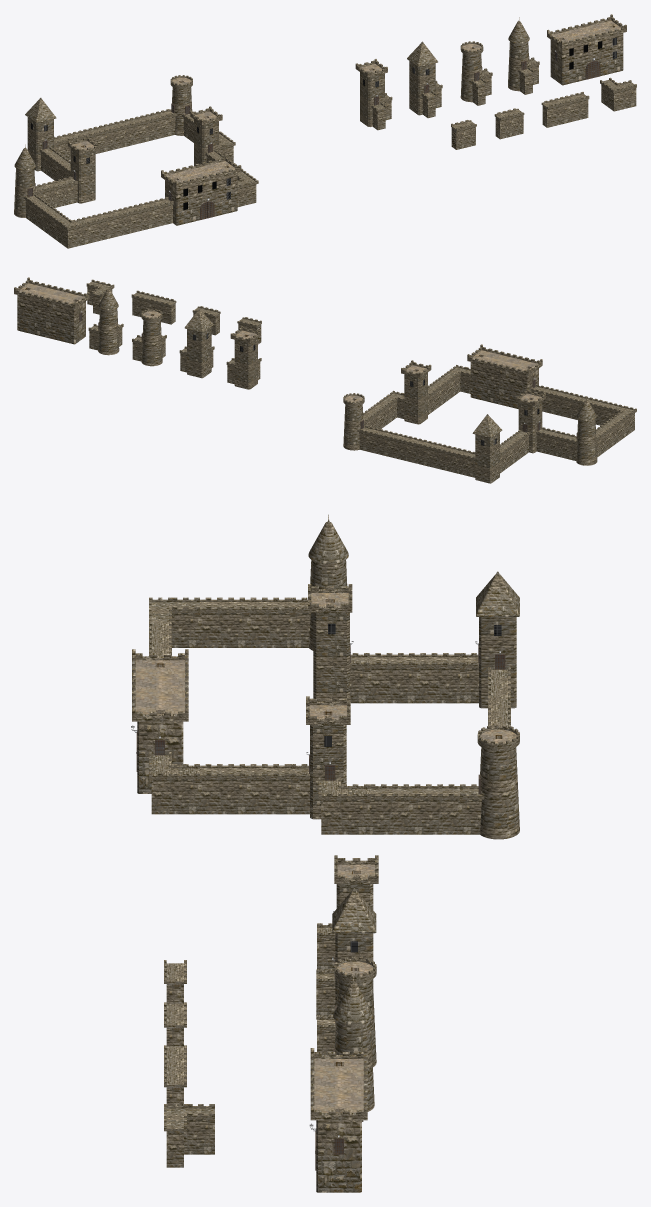
Rendered from castelo-modular.glb.
3 renders of one model, top to bottom at view 1: azimuth 30°, elevation 25°; view 2: azimuth 150°, elevation 25°; view 3: azimuth 270°, elevation 25°, orthographic. The views are drawn at different scales.
Visible parts, largest first — view 1: main.005, main, castle tower2.003, castle tower1.002, main.001, main.004, castle tower2.002, castle tower1, wall1.003, castle tower, wall1, wall2 (+25 smaller); view 2: main.005, main, castle tower2.002, castle tower2.003, castle tower1.002, main.001, main.004, castle tower, castle tower3, castle tower3.001, castle tower4.003, castle tower1 (+23 smaller); view 3: main.004, main.001, castle tower2.002, castle tower4, wall2.006, wall2.013, wall2.015, castle tower1, main.005, wall2.002, castle tower, main (+26 smaller).
Boxes of the visible parts, box(x1,y1,x2,y2) form: main.005: box(550, 33, 623, 85); main: box(165, 173, 237, 225); castle tower2.003: box(409, 61, 442, 118); castle tower1.002: box(360, 72, 392, 130); main.001: box(161, 154, 241, 187); main.004: box(547, 14, 626, 47); castle tower2.002: box(27, 117, 60, 173); castle tower1: box(70, 148, 95, 203); wall1.003: box(542, 99, 588, 127); castle tower: box(194, 119, 218, 165); wall1: box(131, 204, 172, 232); wall2: box(90, 215, 131, 243); main.005: box(17, 295, 85, 344); main: box(470, 362, 538, 408); castle tower2.002: box(467, 432, 502, 483); castle tower2.003: box(179, 327, 214, 378); castle tower1.002: box(226, 338, 261, 389); main.001: box(467, 344, 542, 375); main.004: box(14, 277, 89, 308); castle tower: box(404, 372, 427, 424); castle tower3: box(576, 419, 597, 465); castle tower3.001: box(98, 308, 119, 355); castle tower4.003: box(141, 320, 162, 366); castle tower1: box(518, 401, 542, 453); main.004: box(310, 1048, 367, 1120); main.001: box(132, 649, 188, 721); castle tower2.002: box(460, 617, 516, 708); castle tower4: box(480, 747, 519, 839); wall2.006: box(369, 668, 459, 703); wall2.013: box(200, 779, 290, 814); wall2.015: box(369, 799, 459, 834); castle tower1: box(313, 612, 349, 701); main.005: box(316, 1120, 361, 1192); wall2.002: box(200, 613, 290, 647); castle tower: box(310, 725, 346, 819); main: box(137, 721, 183, 793).
Size of the model in its own units: 176 by 19.44 by 51.74.
10 materials, 4 textured.
